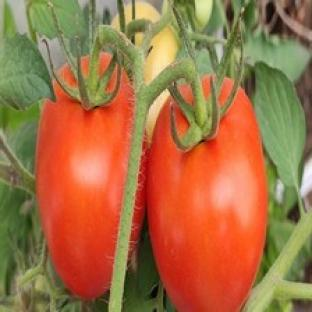Tomato: (147, 88, 267, 311), (37, 72, 135, 299), (145, 27, 179, 83)
